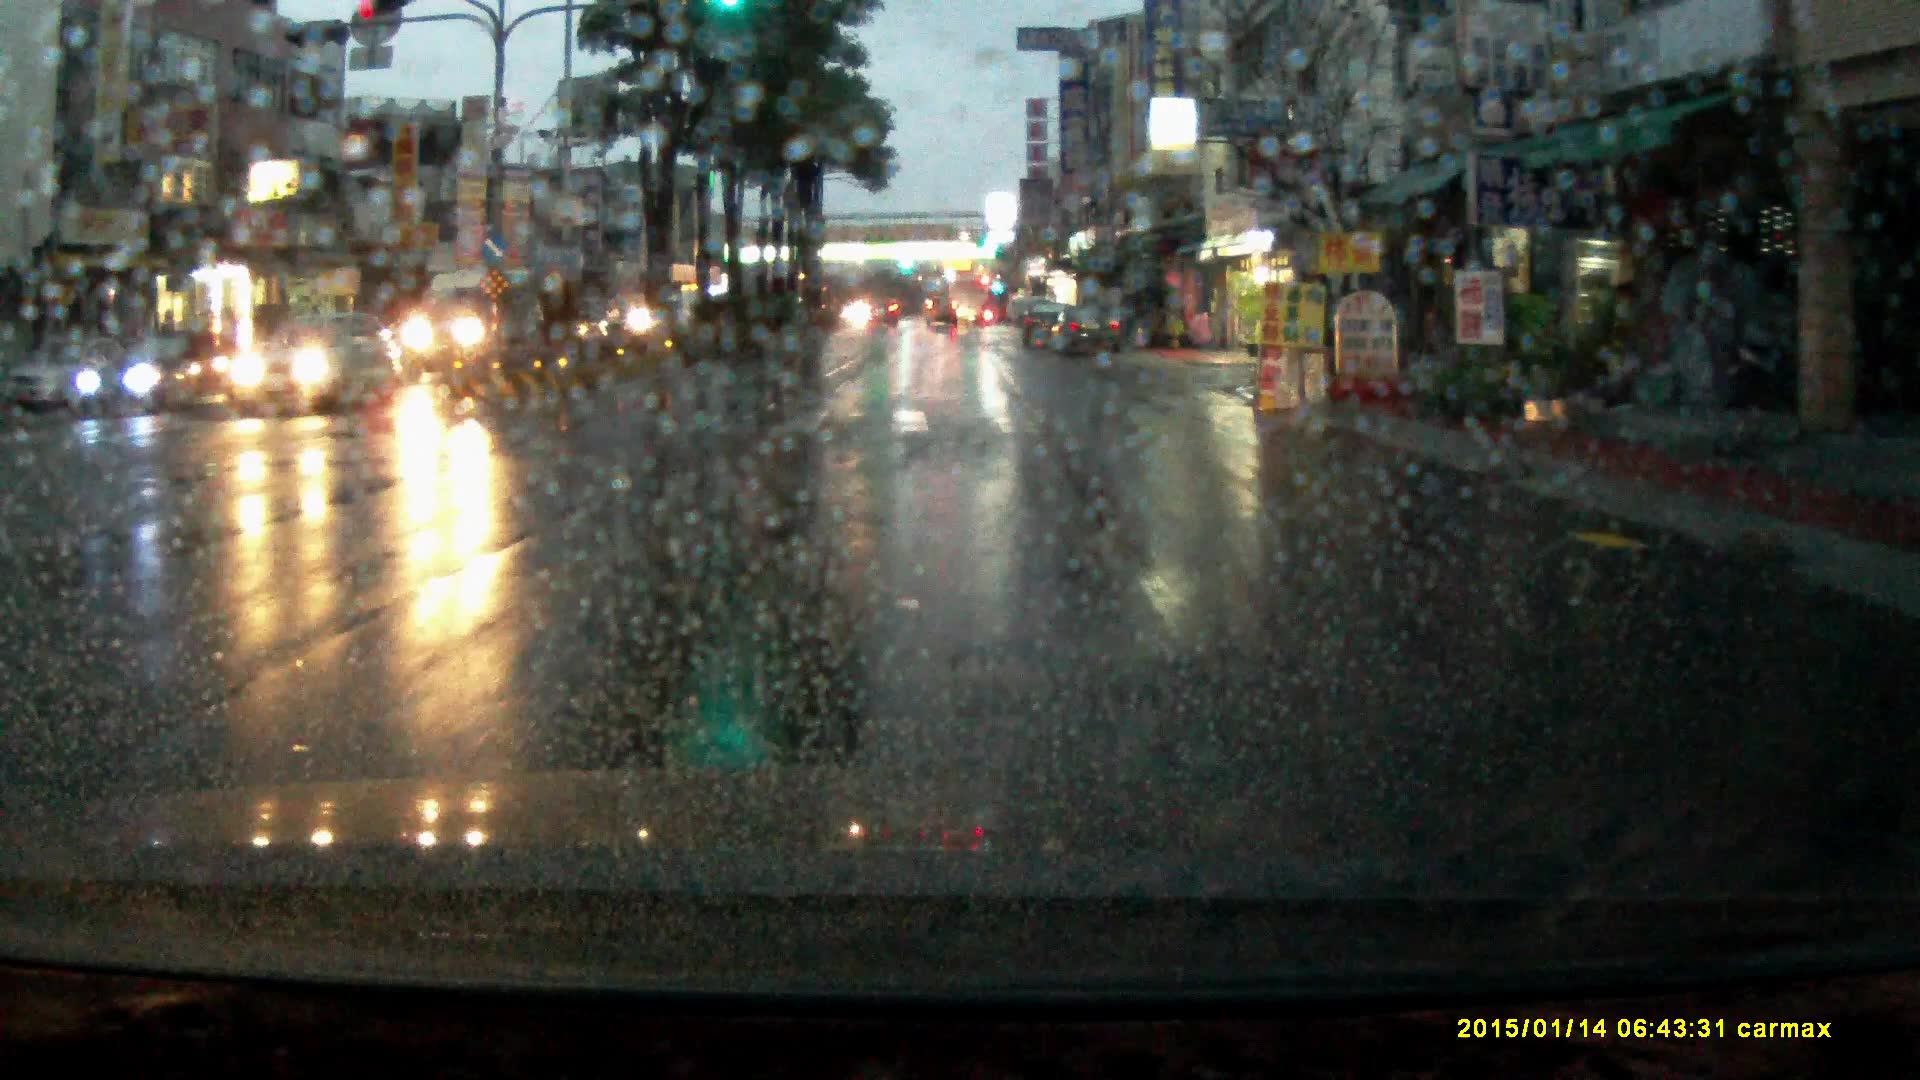vehicle: (225, 319, 405, 421), (402, 265, 541, 389), (61, 335, 210, 418), (15, 335, 125, 411), (1052, 307, 1125, 361), (1021, 305, 1071, 353), (949, 274, 988, 328), (927, 297, 959, 334), (865, 298, 899, 330)
